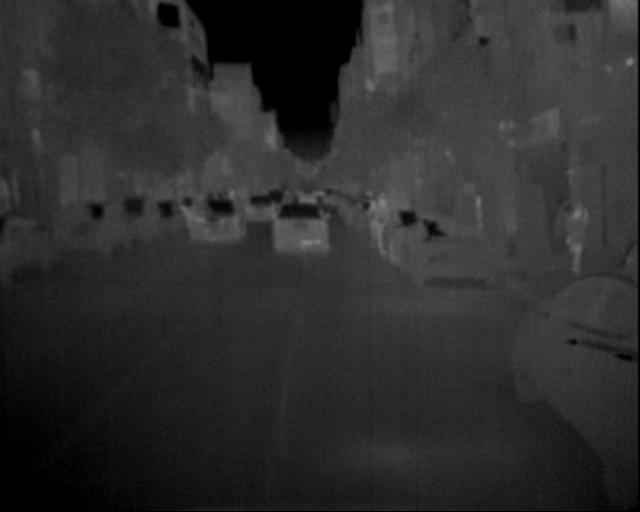person: (563, 194, 600, 279), (368, 181, 395, 243)
